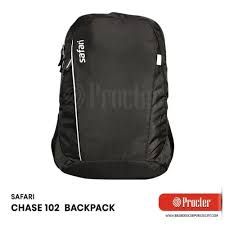backpack: (50, 11, 174, 179)
